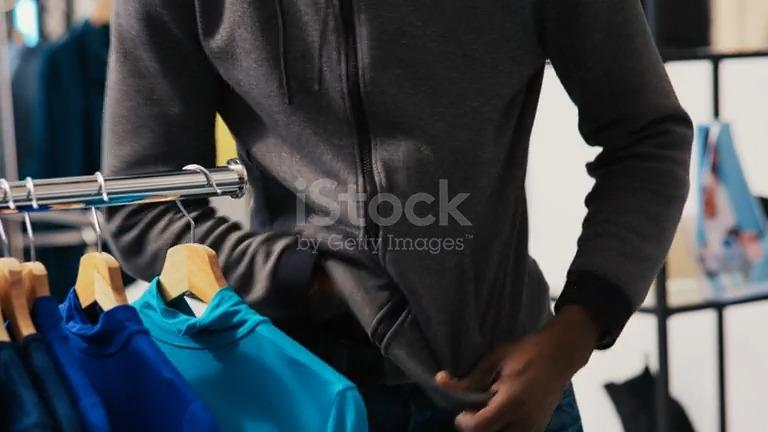Shoplifting: (73, 0, 727, 432)
